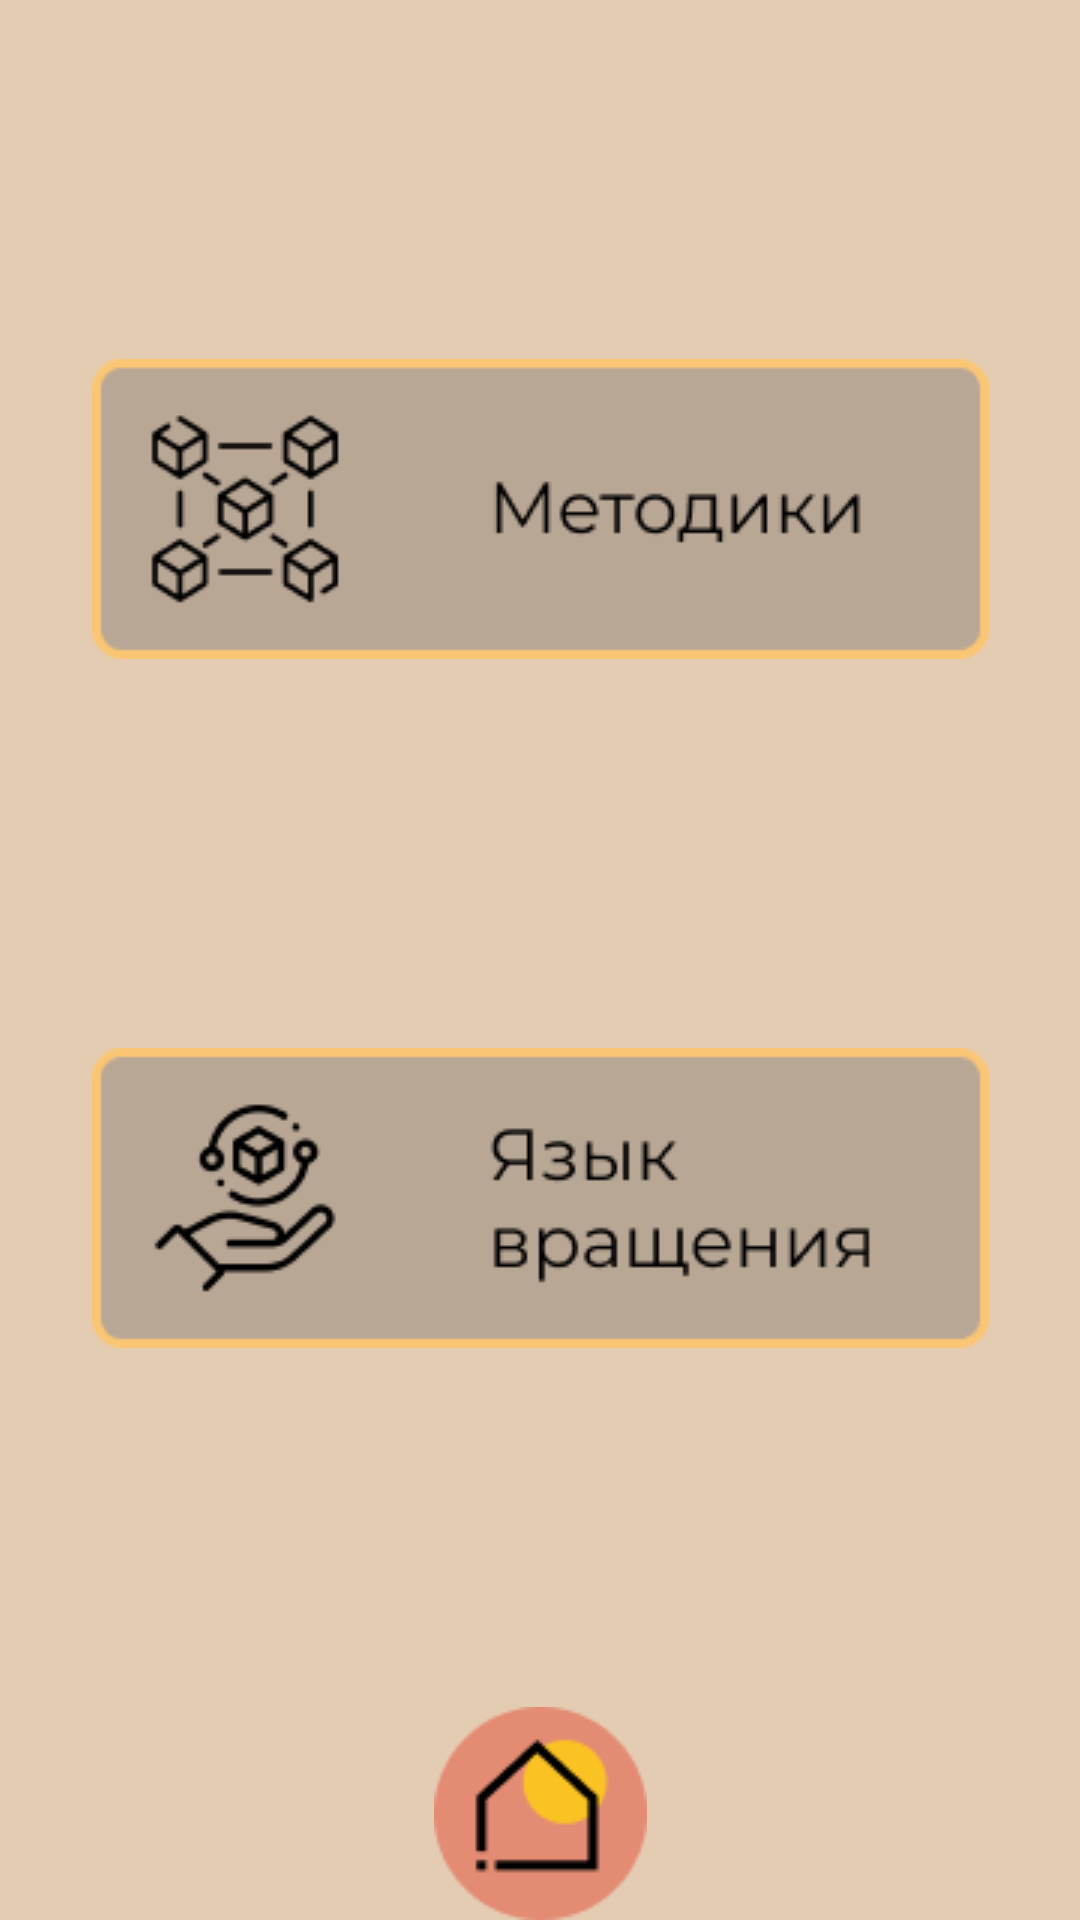

Screen size 1080×1920. Icon name, then its box in pixels as [x1, y1, x2, y2]:
home: [434, 1707, 647, 1920]
